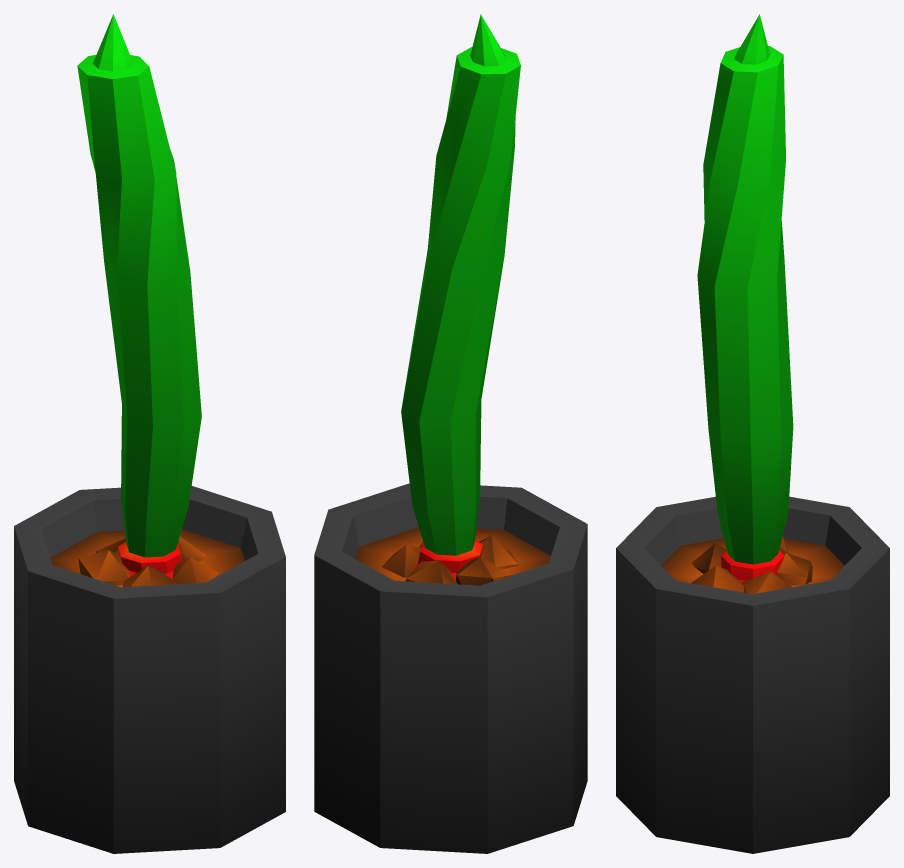
File: MangroveSiapTanam+PolyBag.fbx
3 views of the same model, side by side, from view 1: azimuth 30°, elevation 25°; view 2: azimuth 150°, elevation 25°; view 3: azimuth 270°, elevation 25° (orthographic). The views are drawn at different scales.
Visible parts, largest first — view 1: Cylinder.003; view 2: Cylinder.003; view 3: Cylinder.003.
Boxes of the visible parts, x1,y1,x2,y2 form: Cylinder.003: (14,14,285,853); Cylinder.003: (314,14,587,853); Cylinder.003: (616,14,889,853).
Size of the model in its own units: 96.98 by 300 by 96.98.
